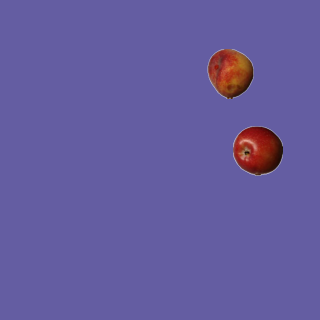Apple Braeburn: (232, 125, 282, 175)
Peach: (205, 48, 255, 98)
